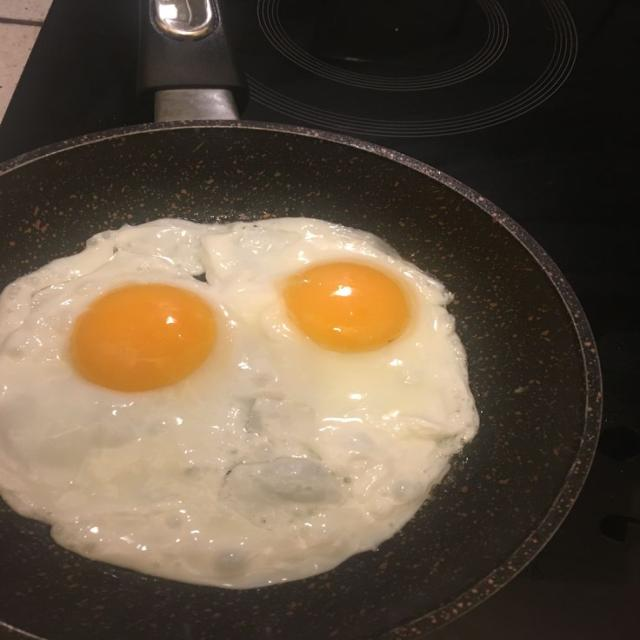fryed egg: (0, 218, 478, 587)
